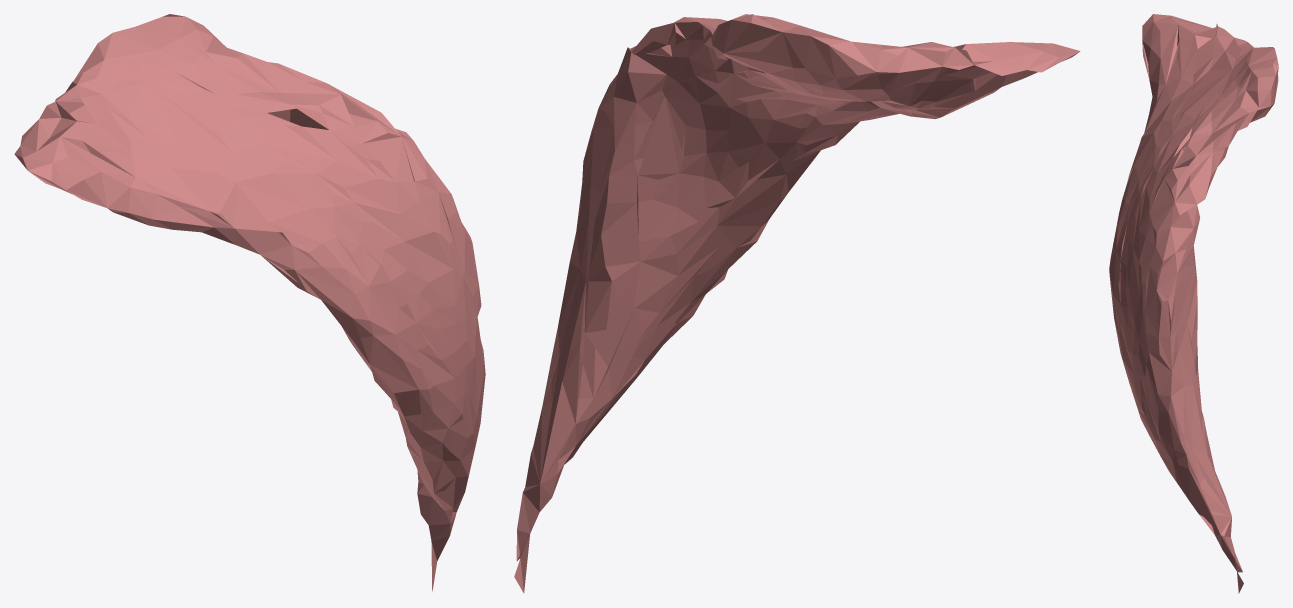
File: Clavicular_part_of_deltoid_muscle.l.glb
3 views of the same model, side by side, from view 1: azimuth 30°, elevation 25°; view 2: azimuth 150°, elevation 25°; view 3: azimuth 270°, elevation 25° (orthographic). The views are drawn at different scales.
Visible parts, largest first — view 1: Clavicular_part_of_deltoid_muscle.l; view 2: Clavicular_part_of_deltoid_muscle.l; view 3: Clavicular_part_of_deltoid_muscle.l.
Part boxes in pixels (<box>): Clavicular_part_of_deltoid_muscle.l: <box>14,14,485,591</box>; Clavicular_part_of_deltoid_muscle.l: <box>514,14,1080,593</box>; Clavicular_part_of_deltoid_muscle.l: <box>1109,14,1278,593</box>.
Size of the model in its own units: 0.1239 by 0.1544 by 0.0532.
